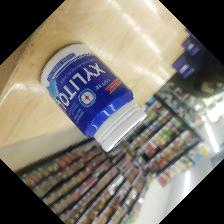Xylitol_blue: (39, 42, 148, 153)
